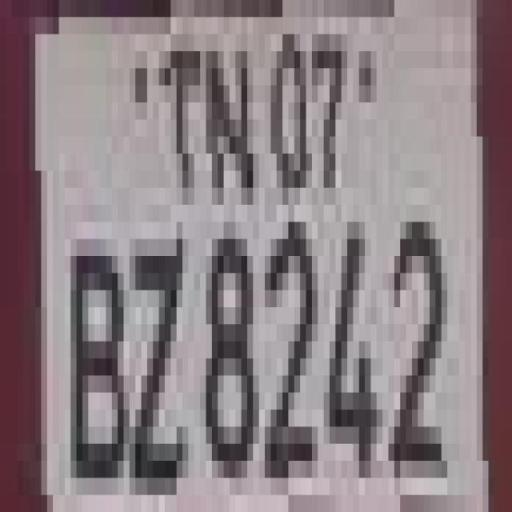number plate: (23, 17, 512, 512)
